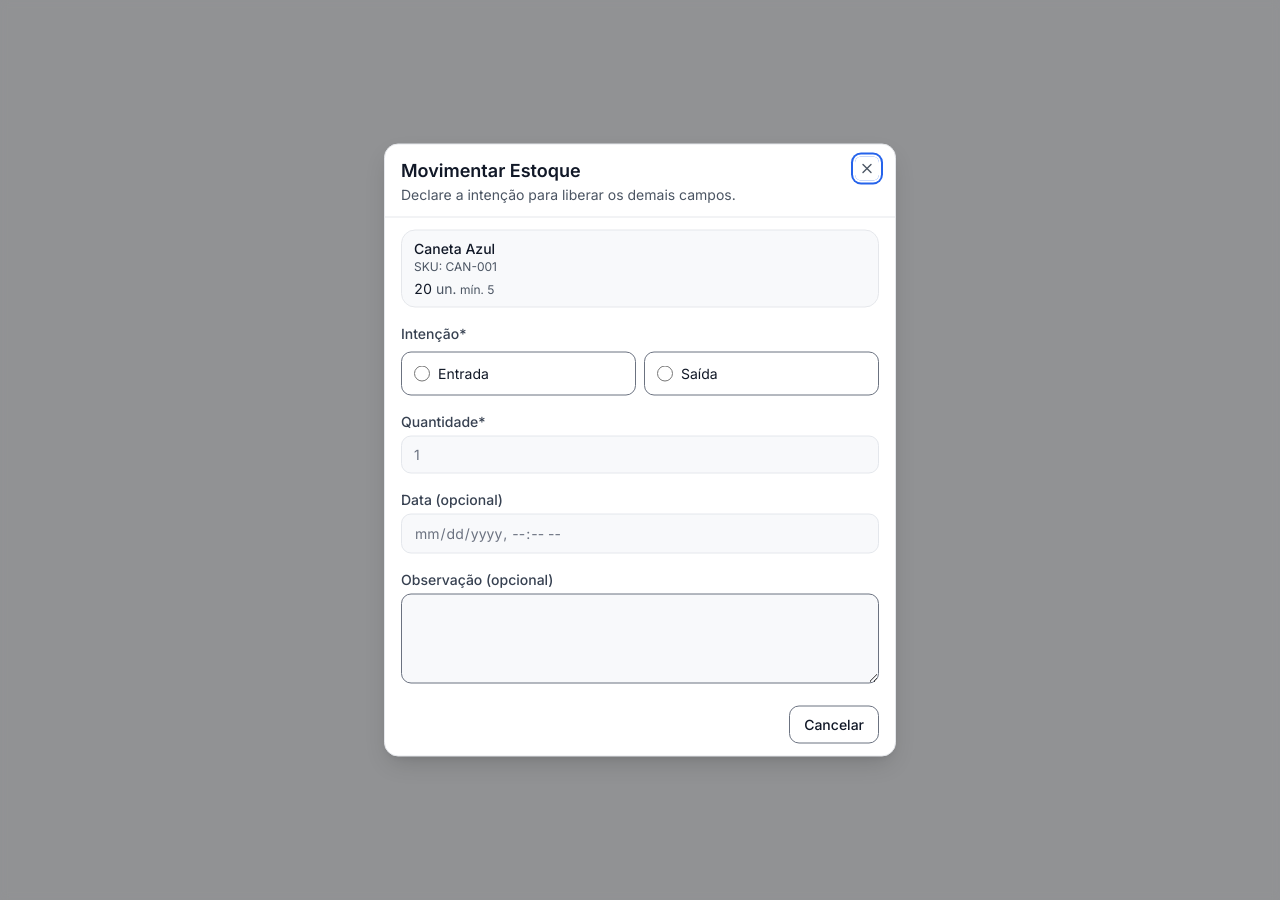
MovementFormModal — declaração de intenção (D2/P-4) › (c) o preview não apresenta saldo negativo como futuro plausível
Click the radio button labelled "Saída" at (665, 374), box [657,366,673,382]
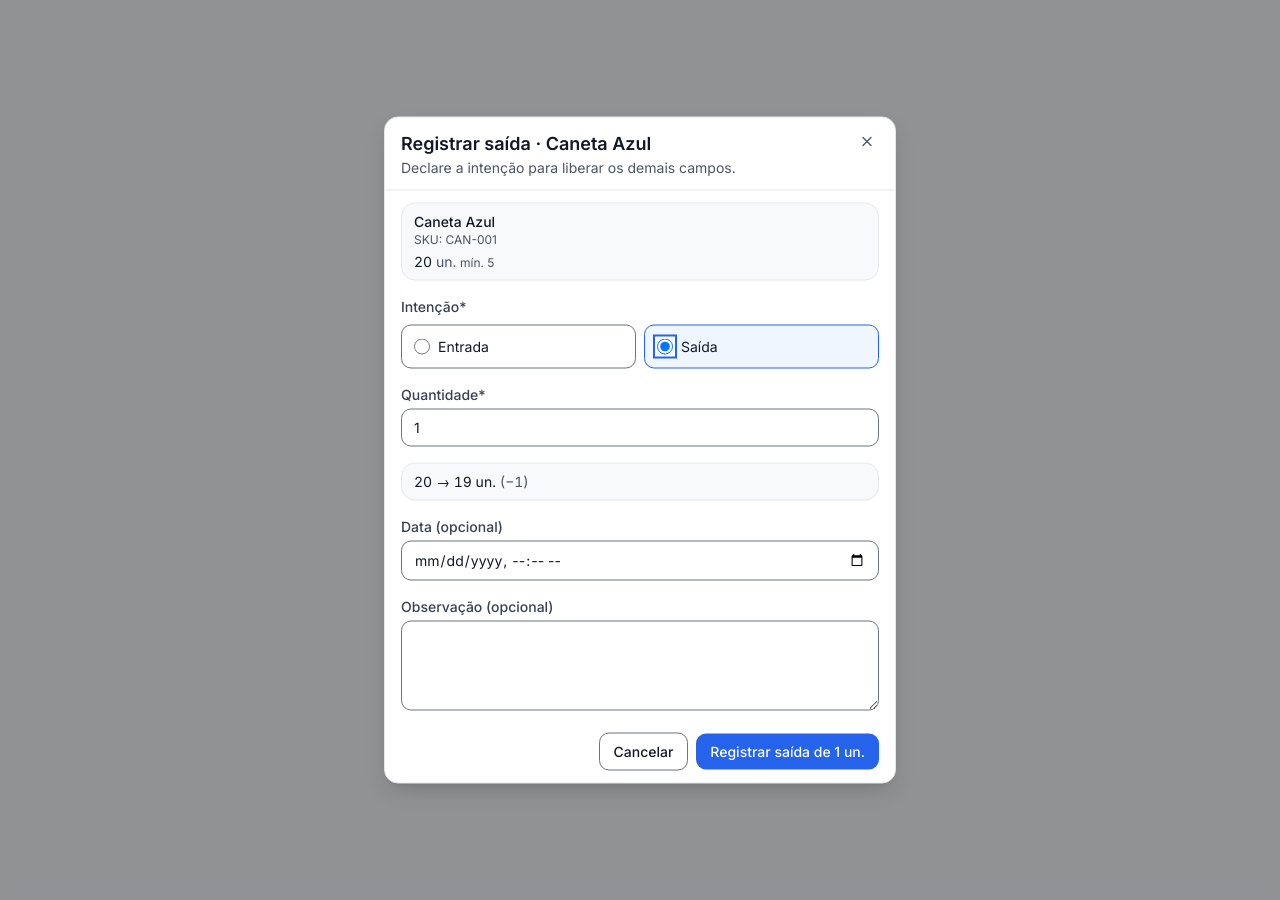
Clear the number field labelled "Quantidade*" at (640, 428), box [401,408,879,446]
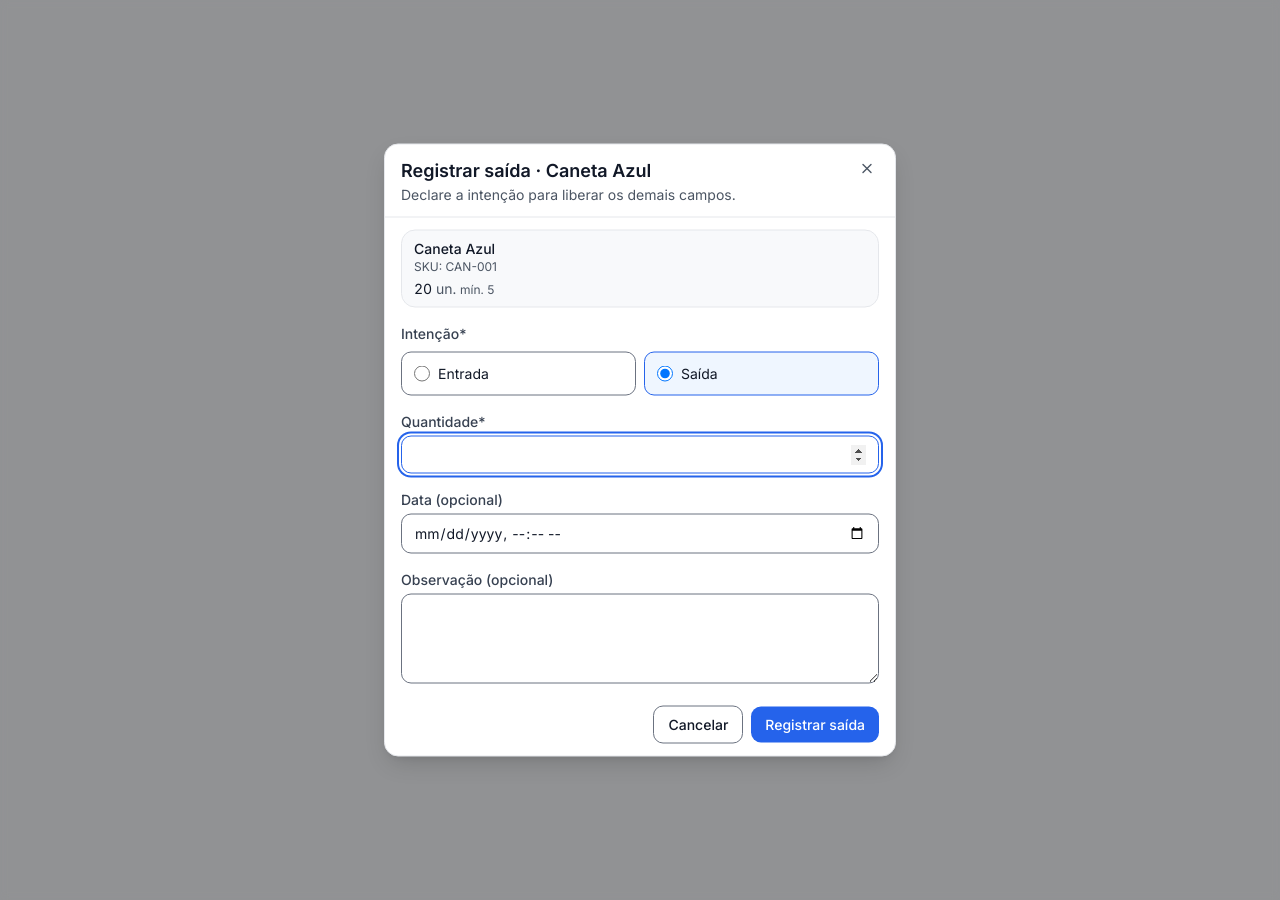
Type "50" into the number field labelled "Quantidade*" at (640, 454), box [401,436,879,474]
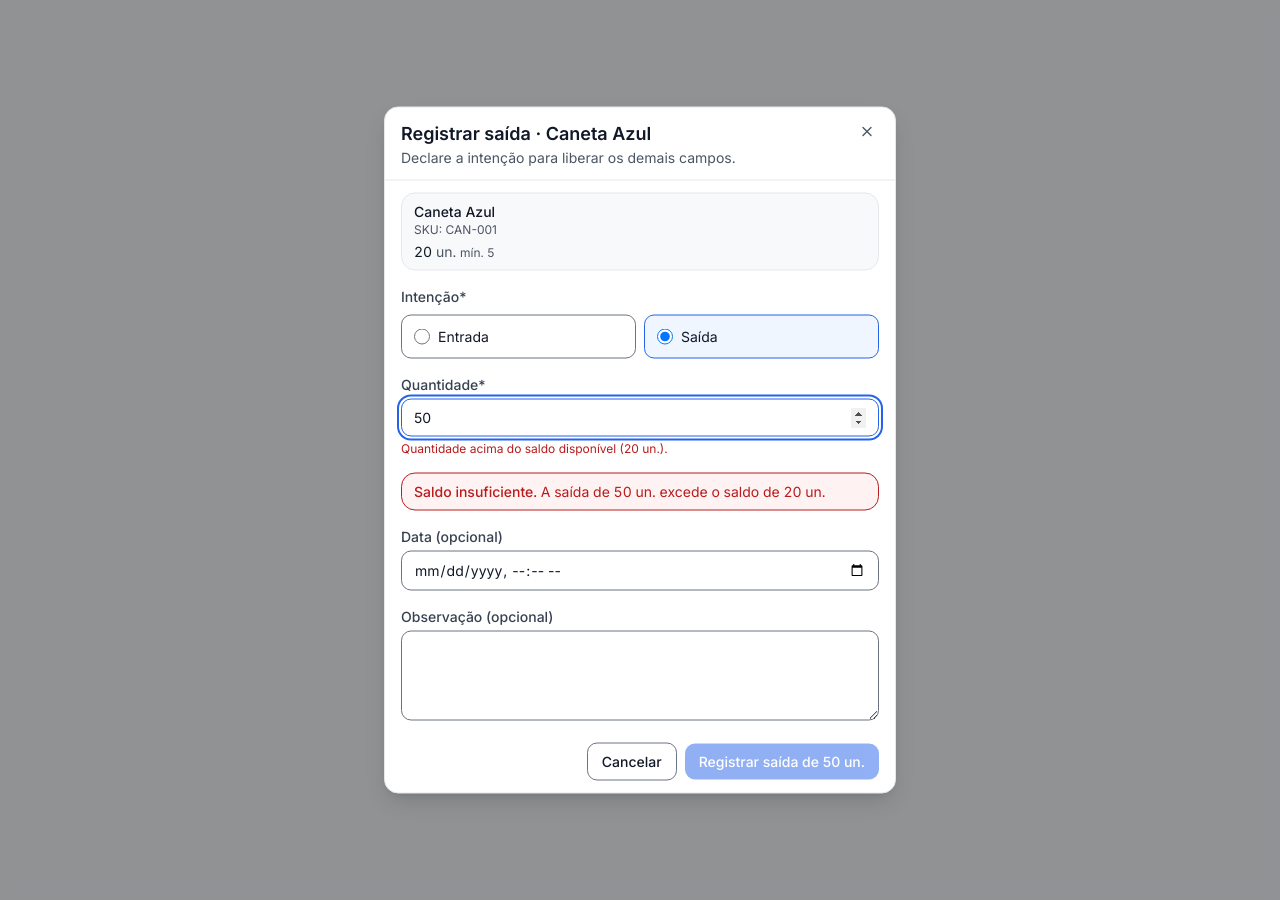
Result: the element with test id "movement-preview" shows "Saldo insuficiente" at [414,482,537,500]
